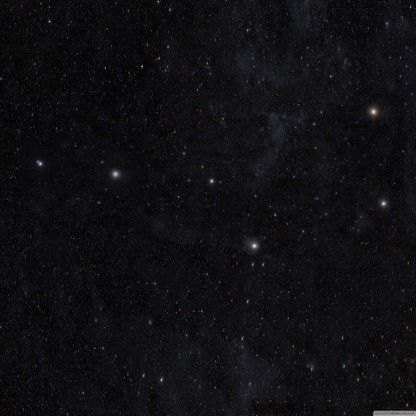Ursa Major: (101, 160, 131, 192), (31, 153, 60, 178), (241, 235, 267, 261), (362, 102, 385, 124), (202, 165, 220, 192), (373, 195, 393, 215)
